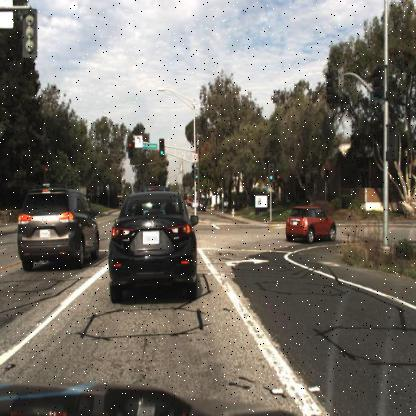car: (105, 183, 198, 306), (16, 181, 100, 275), (284, 203, 336, 245), (196, 199, 208, 218)
trafficLight-Green: (158, 136, 166, 160), (267, 164, 275, 185), (194, 166, 200, 182)
trafficLight-RedLeft: (126, 136, 136, 154)
